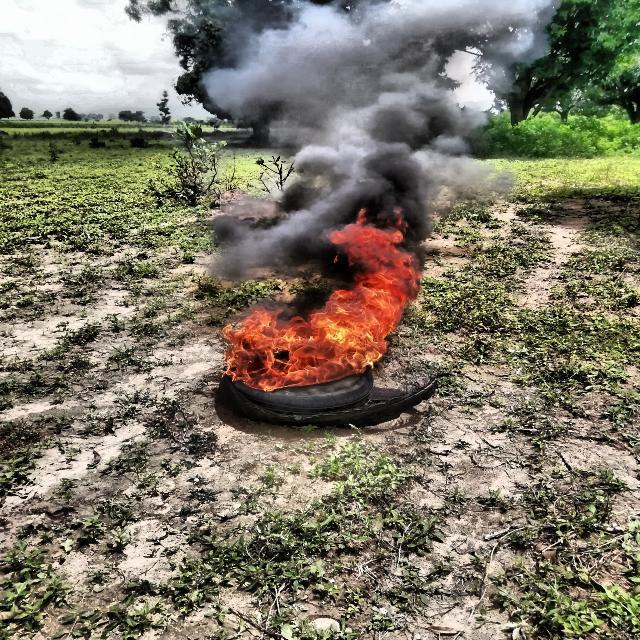Fire: (223, 218, 418, 386)
Smoke: (195, 0, 552, 212)
